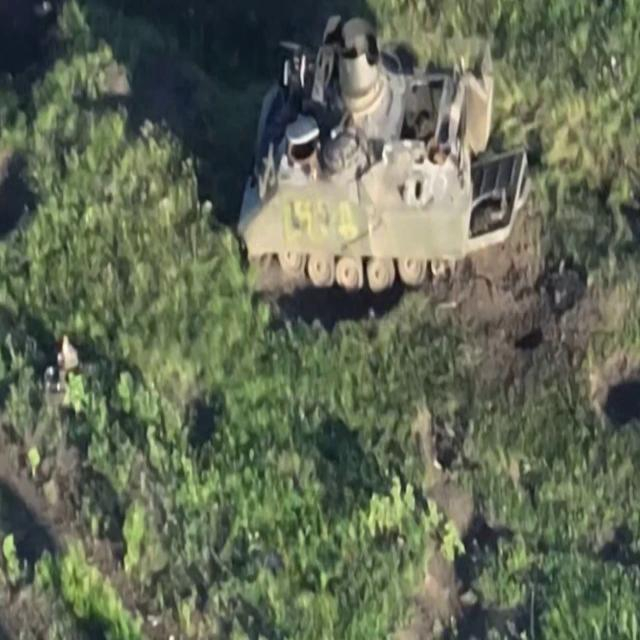APC: (232, 11, 530, 294)
